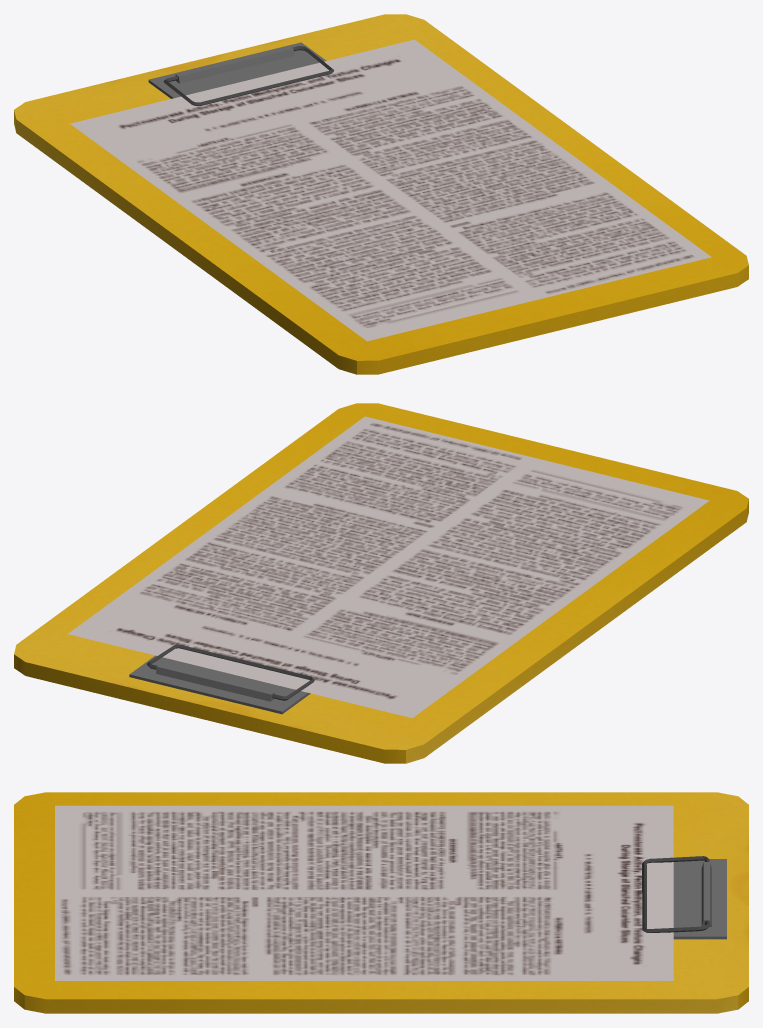
File: clip board.FBX
3 views of the same model, one above another, from view 1: azimuth 30°, elevation 25°; view 2: azimuth 150°, elevation 25°; view 3: azimuth 270°, elevation 25° (orthographic). The views are drawn at different scales.
Parts seen in each view (by area): view 1: clip board; view 2: clip board; view 3: clip board.
Boxes of the visible parts, x1,y1,x2,y2 form: clip board: (14,14,748,374); clip board: (14,403,748,763); clip board: (14,792,748,1013).
Size of the model in its own units: 10 by 15 by 0.5397.
